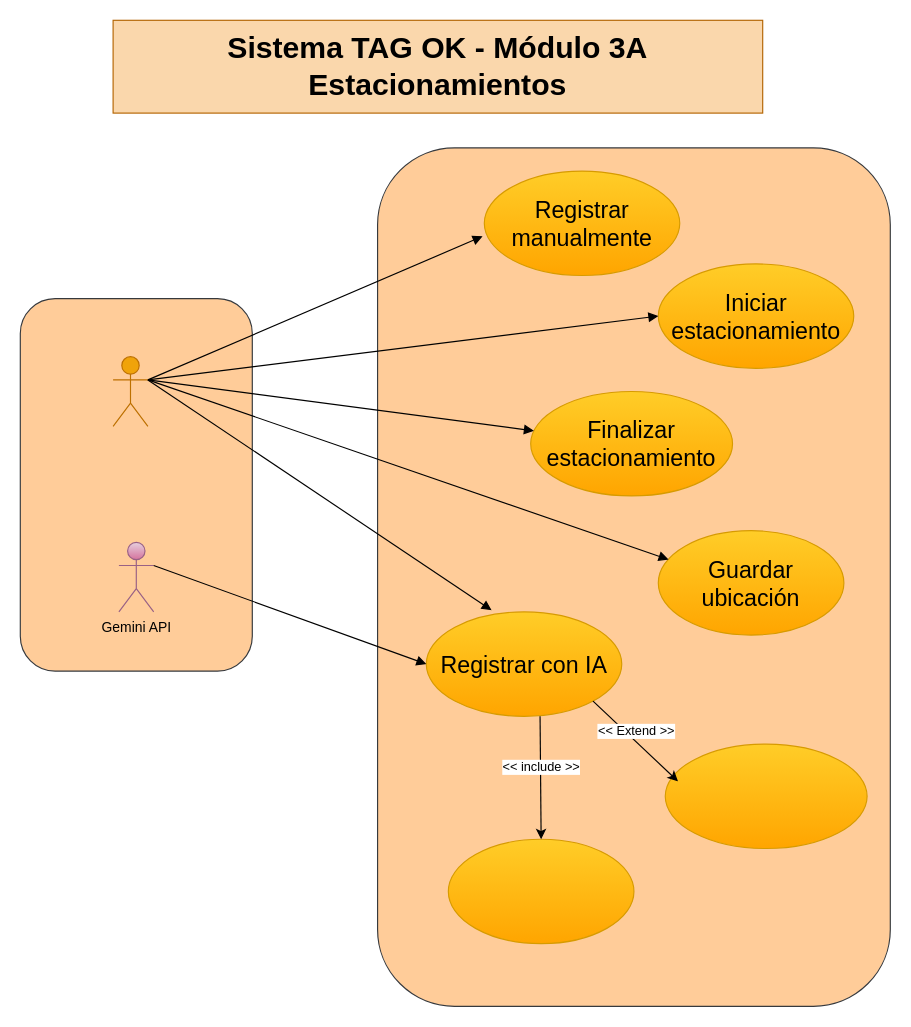
Some shapes in this 911 by 1027 pixel diagram are drawn without their labels. Each missing label, with the centre of its shape:
Conductor: point 130,391
Confirmar registro: point 540,891
Editar datos faltantes: point 765,796
